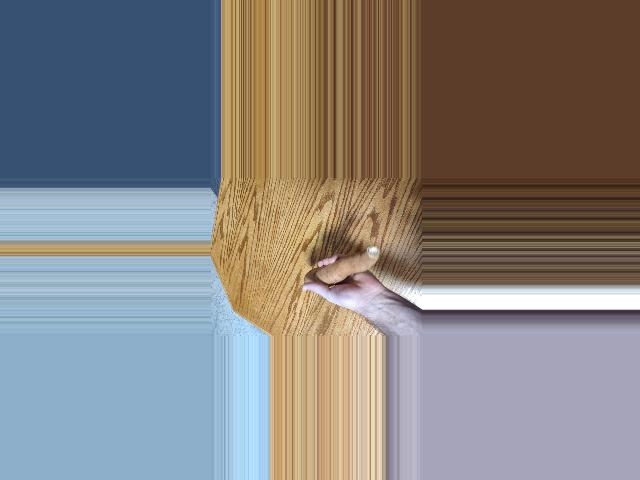sweet_potato: (305, 247, 383, 288)
